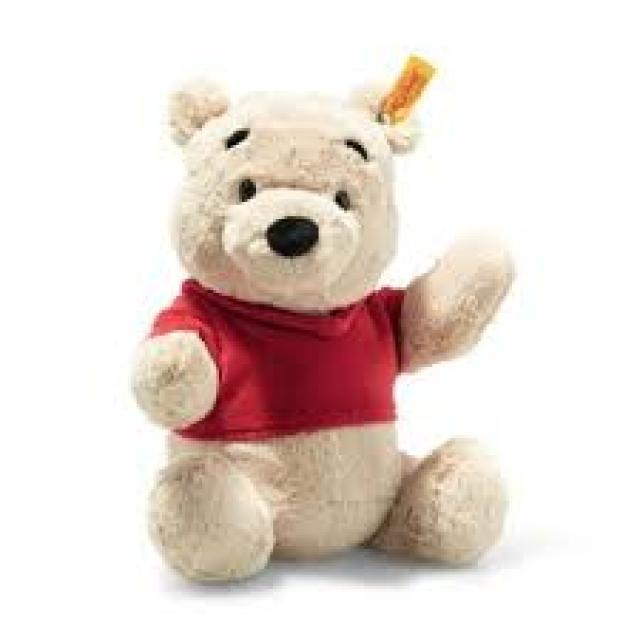soft-toy: (137, 59, 514, 582)
